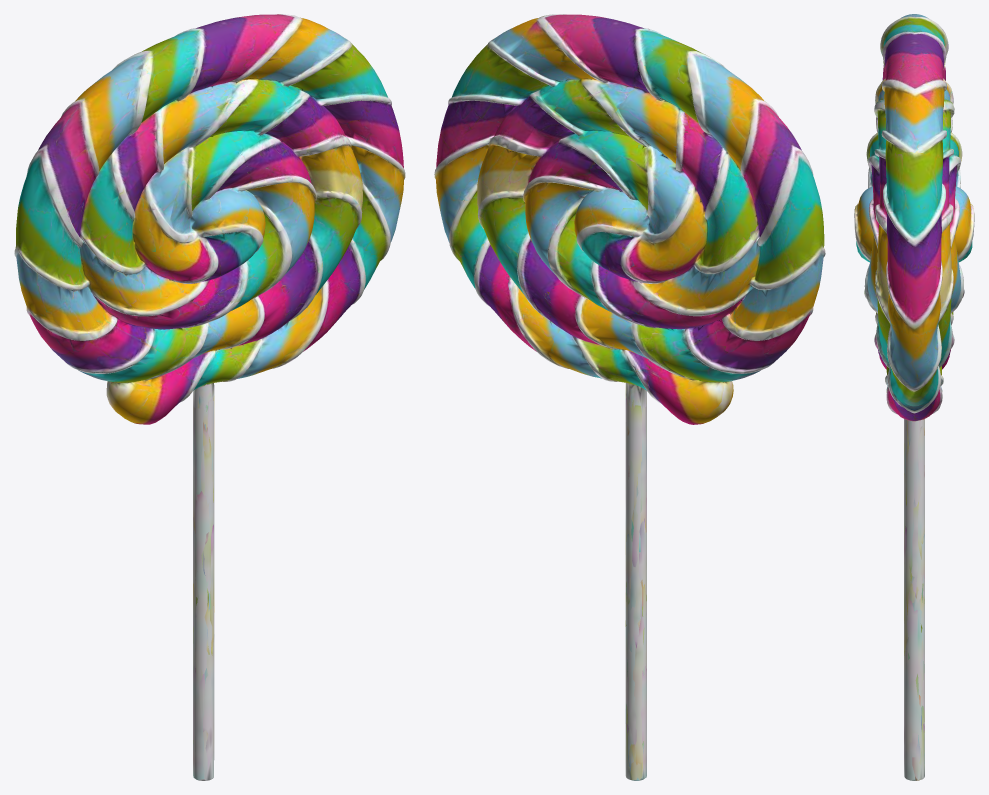
3 renders of one model, left to right at view 1: azimuth 30°, elevation 25°; view 2: azimuth 150°, elevation 25°; view 3: azimuth 270°, elevation 25°, orthographic.
Bounding box in the file's own units: 1.02 × 1.9 × 0.2788.
Materials: 1 (1 with a texture image).
